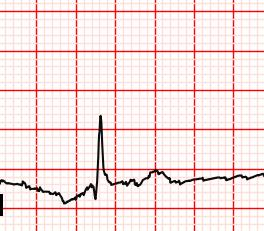Pathological Q Wave: (88, 181, 102, 202)
